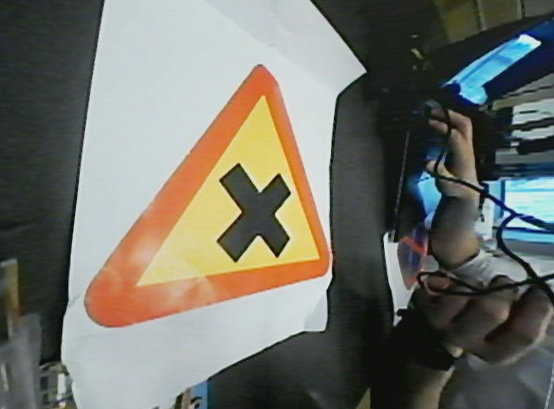junction: (78, 62, 343, 338)
